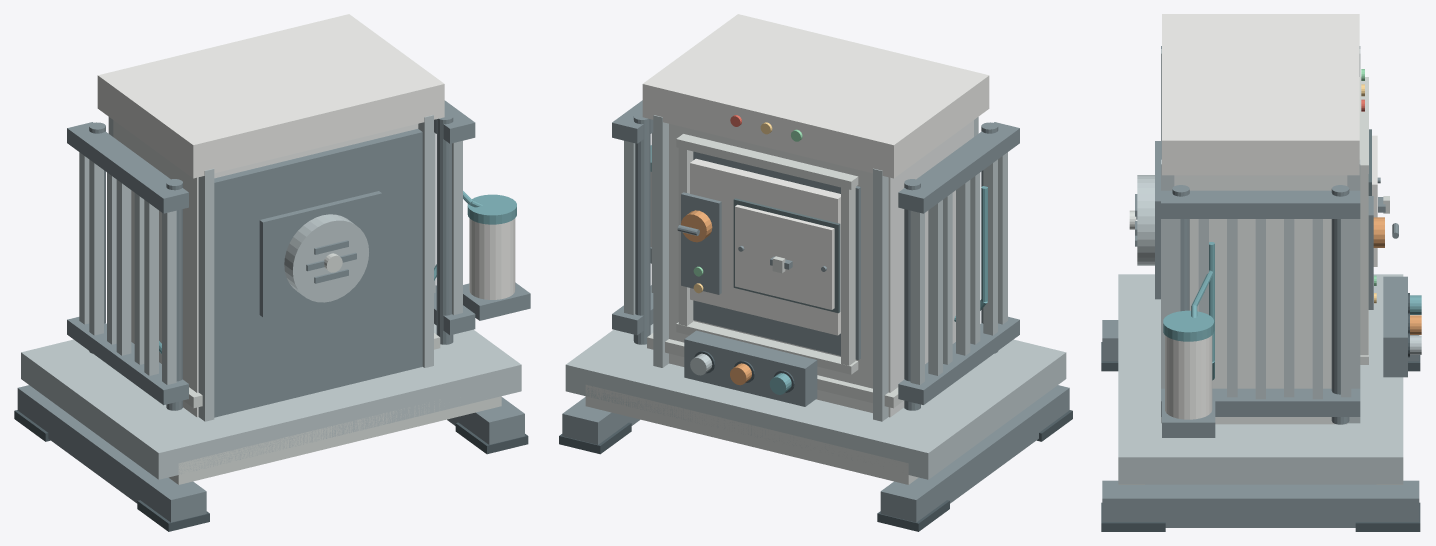
The model's file is exterior_surface_reactor.glb.
3 views of the same model, side by side, from view 1: azimuth 30°, elevation 25°; view 2: azimuth 150°, elevation 25°; view 3: azimuth 270°, elevation 25° (orthographic). The views are drawn at different scales.
Visible parts, largest first — view 1: power_core_rear_dark_alloy, top_module_white_painted, support_platform_alloy, radiator_fins_alloy, ground_skids_dark_alloy, radiator_manifold_dark_alloy, main_vertical_rails_alloy, power_core_shell_white_ceramic, rear_vent_back_dark_alloy, subframe_satin_steel, radiator_uprights_dark_alloy, cooling_fan_shroud_alloy (+5 smaller); view 2: top_module_white_painted, support_platform_alloy, radiator_fins_alloy, power_core_shell_white_ceramic, front_service_plate_white_painted, ground_skids_dark_alloy, service_rails_satin_steel, radiator_manifold_dark_alloy, access_hatch_white_painted, main_vertical_rails_alloy, subframe_satin_steel, power_output_panel_dark_alloy (+8 smaller); view 3: top_module_white_painted, support_platform_alloy, power_core_shell_white_ceramic, ground_skids_dark_alloy, radiator_fins_alloy, radiator_manifold_dark_alloy, coolant_service_canister_white_painted, main_vertical_rails_alloy, radiator_uprights_dark_alloy, service_rails_satin_steel, power_output_panel_dark_alloy, anti_vibration_feet_black_rubber (+7 smaller).
Part boxes in pixels (box(x1,y1,x2,y2)): power_core_rear_dark_alloy: box(214, 129, 422, 417); top_module_white_painted: box(97, 14, 444, 178); support_platform_alloy: box(21, 324, 521, 479); radiator_fins_alloy: box(79, 132, 462, 384); ground_skids_dark_alloy: box(17, 385, 524, 522); radiator_manifold_dark_alloy: box(67, 100, 475, 405); main_vertical_rails_alloy: box(108, 115, 433, 421); power_core_shell_white_ceramic: box(113, 120, 418, 417); rear_vent_back_dark_alloy: box(259, 191, 382, 317); subframe_satin_steel: box(169, 396, 501, 484); radiator_uprights_dark_alloy: box(89, 113, 453, 410); cooling_fan_shroud_alloy: box(284, 214, 368, 302); top_module_white_painted: box(642, 14, 989, 178); support_platform_alloy: box(565, 324, 1066, 479); radiator_fins_alloy: box(624, 132, 1007, 384); power_core_shell_white_ceramic: box(669, 120, 973, 417); front_service_plate_white_painted: box(690, 158, 840, 335); ground_skids_dark_alloy: box(562, 385, 1069, 522); service_rails_satin_steel: box(676, 134, 858, 374); radiator_manifold_dark_alloy: box(612, 100, 1019, 404); access_hatch_white_painted: box(735, 204, 834, 309); main_vertical_rails_alloy: box(653, 115, 978, 421); subframe_satin_steel: box(585, 384, 918, 484); power_output_panel_dark_alloy: box(684, 330, 817, 406); top_module_white_painted: box(1162, 14, 1359, 175); support_platform_alloy: box(1118, 274, 1403, 484); power_core_shell_white_ceramic: box(1174, 175, 1347, 424); ground_skids_dark_alloy: box(1102, 320, 1419, 527); radiator_fins_alloy: box(1170, 219, 1351, 399); radiator_manifold_dark_alloy: box(1161, 46, 1360, 416); coolant_service_canister_white_painted: box(1165, 335, 1212, 419); main_vertical_rails_alloy: box(1161, 49, 1360, 423); radiator_uprights_dark_alloy: box(1172, 185, 1349, 424); service_rails_satin_steel: box(1359, 77, 1368, 364); power_output_panel_dark_alloy: box(1383, 276, 1407, 377); anti_vibration_feet_black_rubber: box(1101, 342, 1420, 531).
Size of the model in its own units: 2.47 by 2.11 by 1.69.
